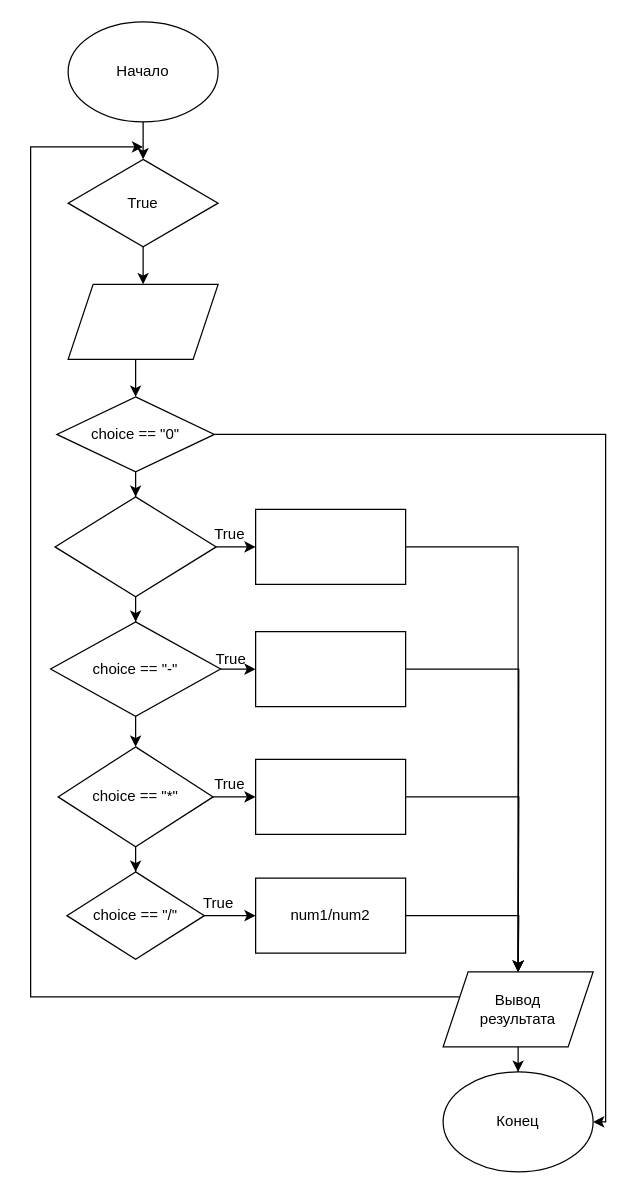
This 638x1194 diagram has some shape labels left out. The shapes that lost their labels are listed below. From the top down, each one's centre as x and y in pixels, then its label:
pixel 142 321: ввод num1, num2, choice
pixel 135 546: choice == "+"
pixel 330 546: num1+num2
pixel 330 668: num1-num2
pixel 330 796: num1*num2
